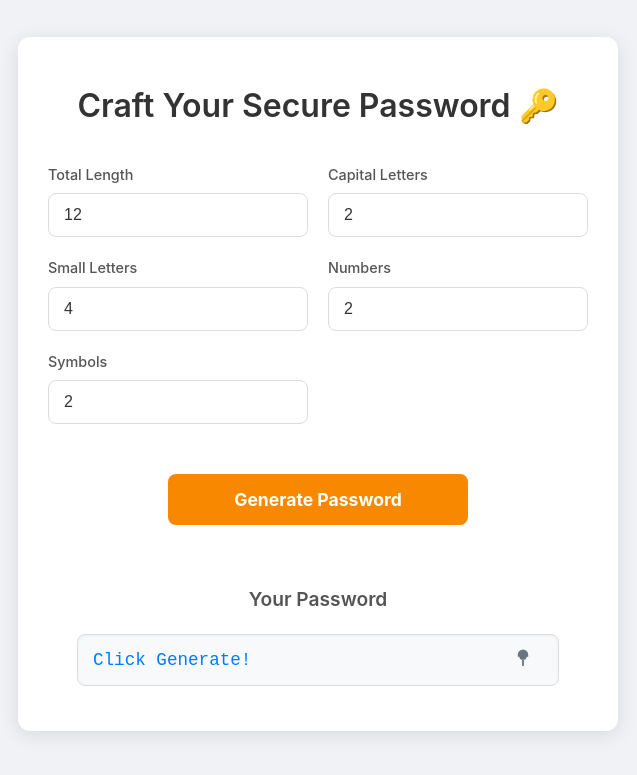
Test: Password Generator App Basic Functionality › displays an error message when character types exceed total length
Replace the text in the number field labelled "Total Length" with "5" at (178, 215), box [48,193,308,237]
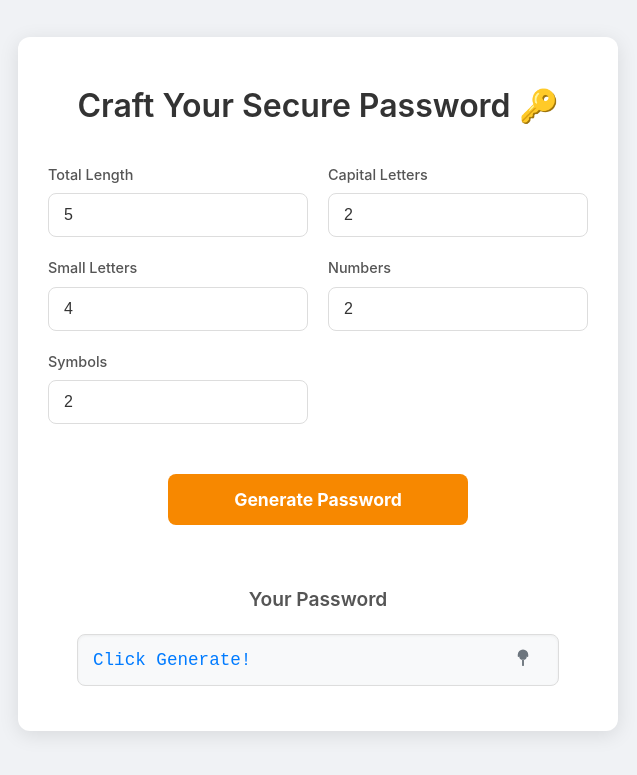
Replace the text in the number field labelled "Capital Letters" with "3" at (458, 215), box [328,193,588,237]
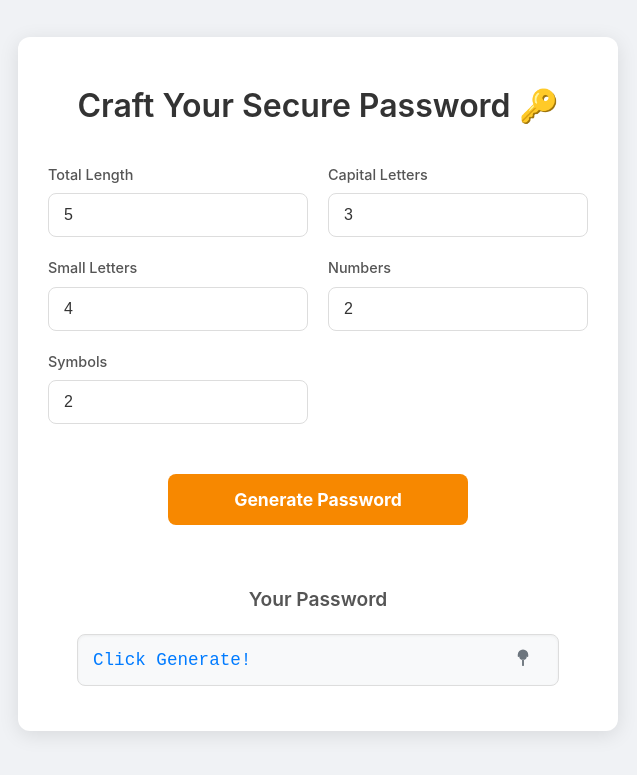
Replace the text in the number field labelled "Small Letters" with "3" at (178, 309), box [48,287,308,331]
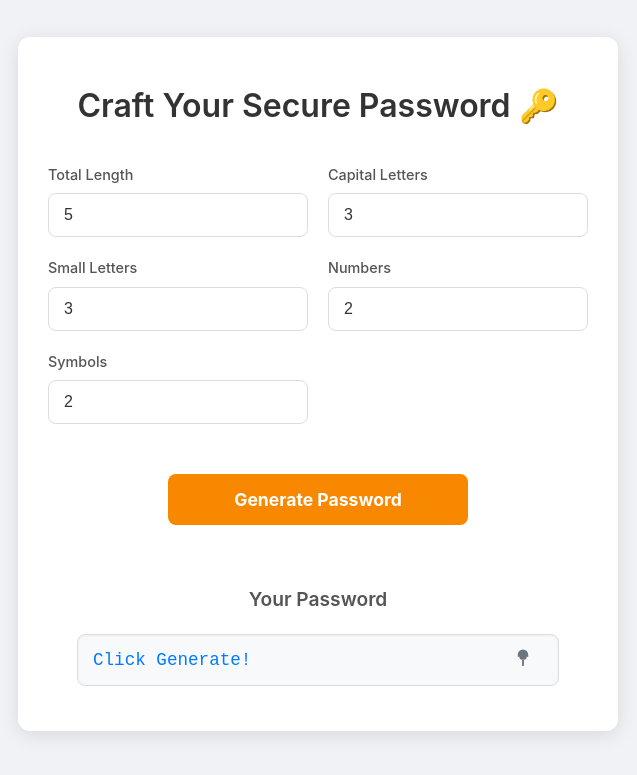
Click the generate button
Click the button "Generate Password" at (318, 500), box [168,474,468,525]
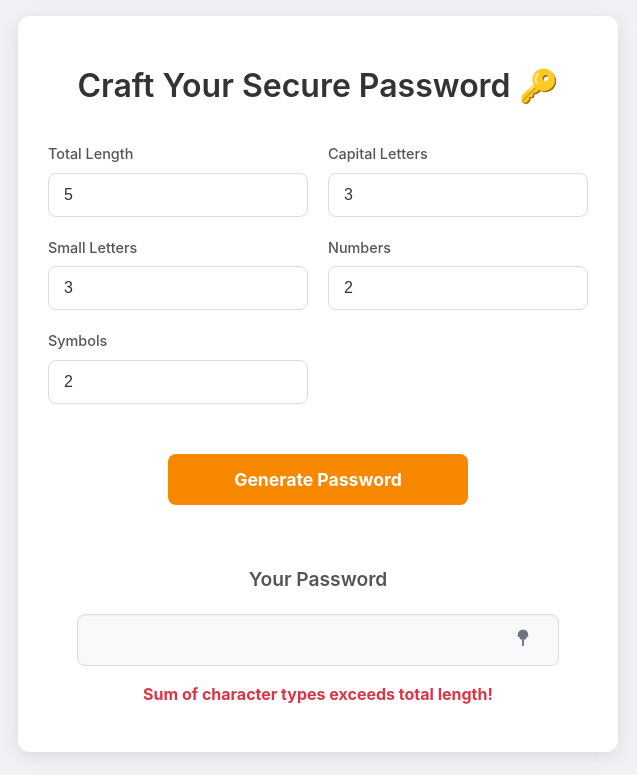
expect the field is empty: met, box [93,620,493,660]
expect the text "Sum of character types exceeds total length!" is shown: met, box [143,684,493,704]
